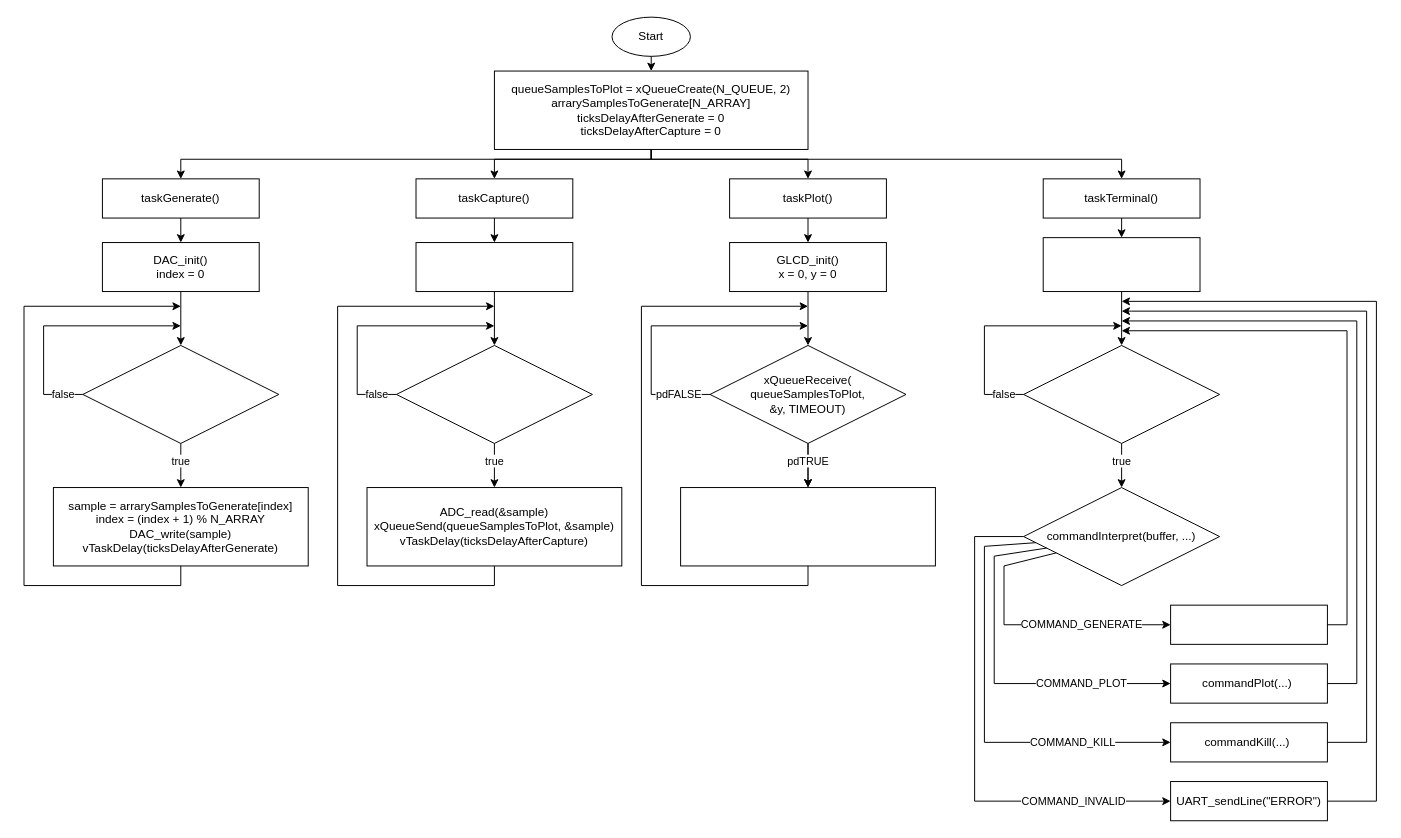
This 1401x838 diagram has some shape labels left out. The centre of each missing label's shape, as x and y in pixels:
"ADC_init() sample = 0" belongs at (494,267).
"commandGenerate(...)" belongs at (1248,624).
"GLCD_clearColumn(y) GLCD_setPixel(x, y) x = (x + 1) % GLCD_WIDTH" belongs at (807,526).
"ticksDelayAfterCapture > 0" belongs at (493,393).
"ticksDelayAfterGenerate > 0" belongs at (180,393).
"UART_init() buffer[N_BUFFER]" belongs at (1121,264).
"UART_receiveLine(buffer , TIMEOUT )" belongs at (1121,393).
